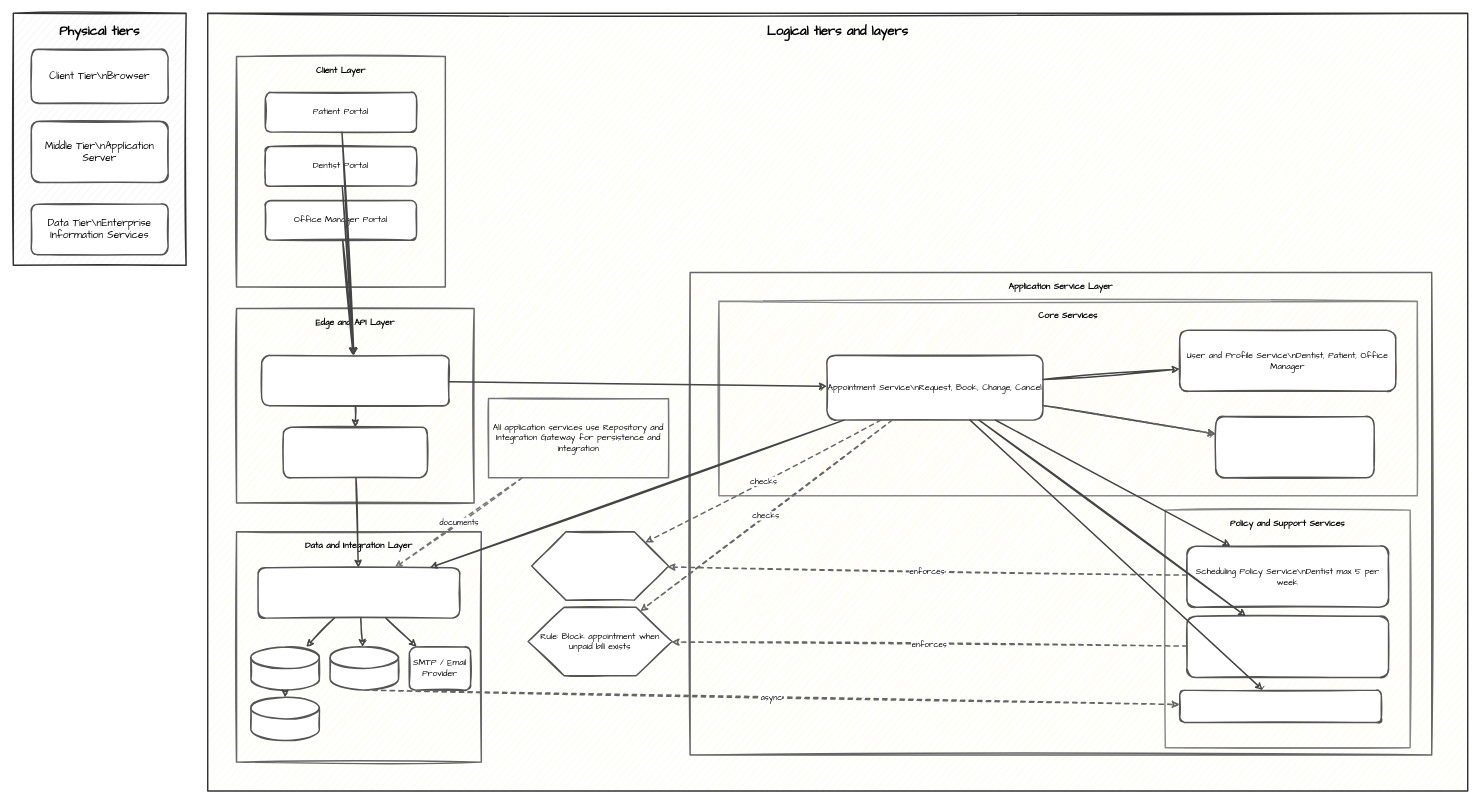
Image size: 1480x804. Some labels were removed from this diagram. Each missing label, with the centre of its shape:
"API Gateway / Reverse Proxy" goes at (x=355, y=380).
"Auth Service\nJWT + RBAC" goes at (x=355, y=452).
"Billing Service\nUnpaid bill check" goes at (x=1287, y=646).
"Message Queue" goes at (x=364, y=668).
"Notification Service\nEmail confirmation" goes at (x=1280, y=706).
"PostgreSQL" goes at (x=285, y=668).
"Redis Cache" goes at (x=285, y=718).
"Repository and Integration Gateway" goes at (x=358, y=592).
"Rule: Dentist cannot exceed 5 appointments per week" goes at (x=600, y=565).
"Surgery Location Service" goes at (x=1294, y=446).
